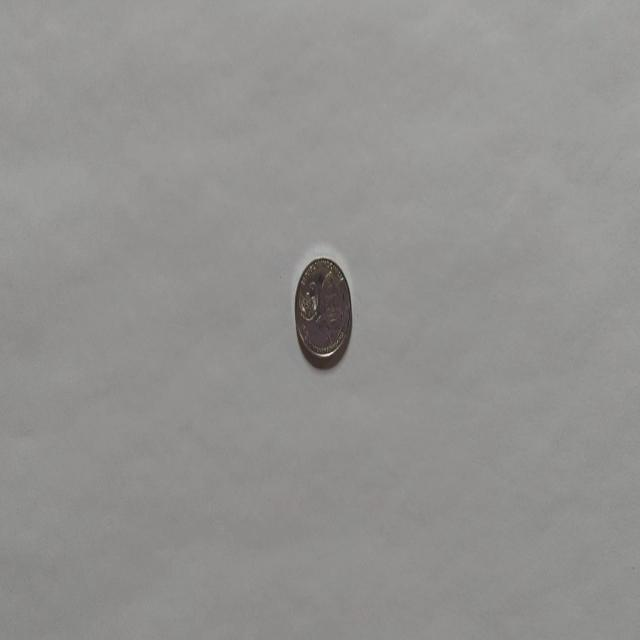dua ratus rupiah: (294, 255, 352, 367)
